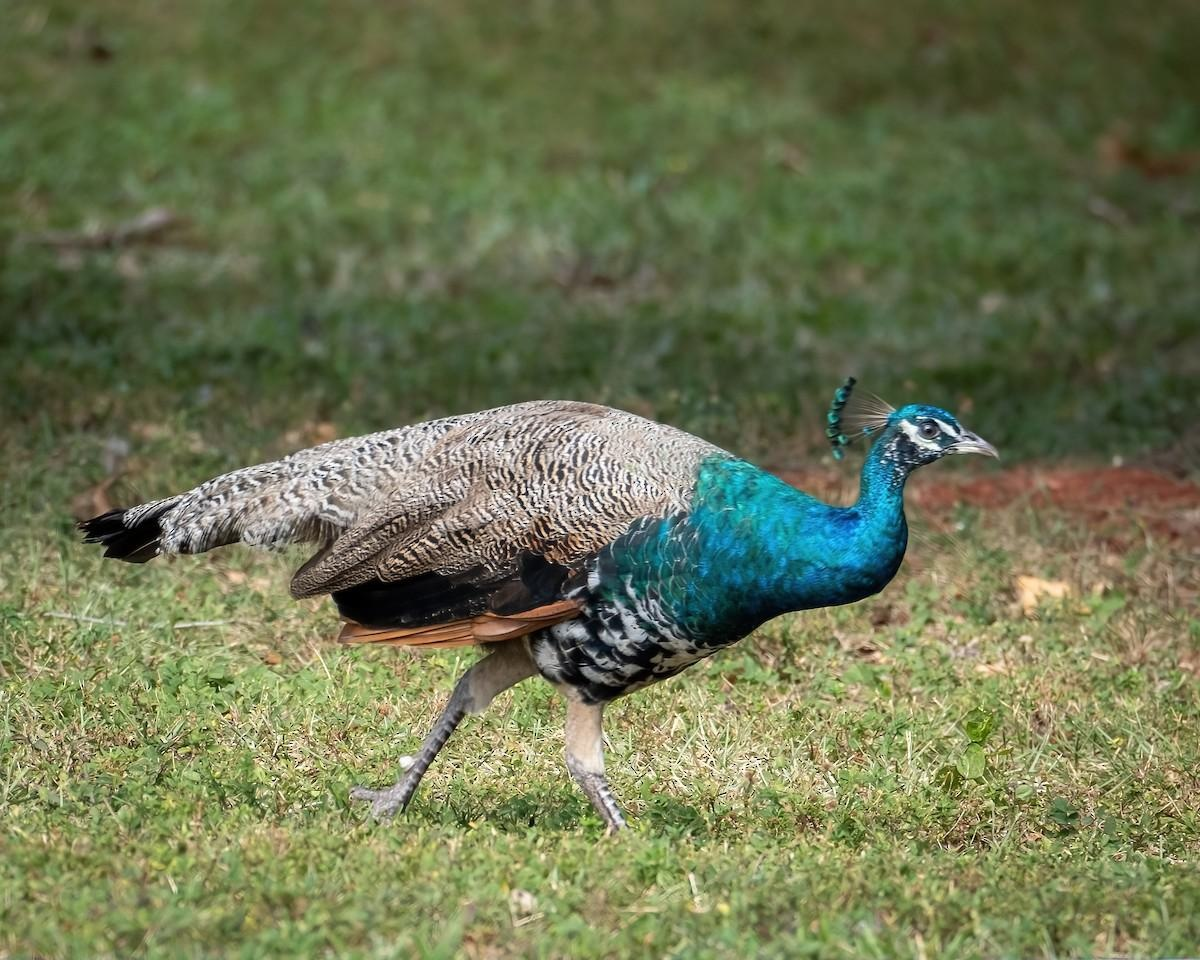peacock: (1, 375, 1016, 852)
